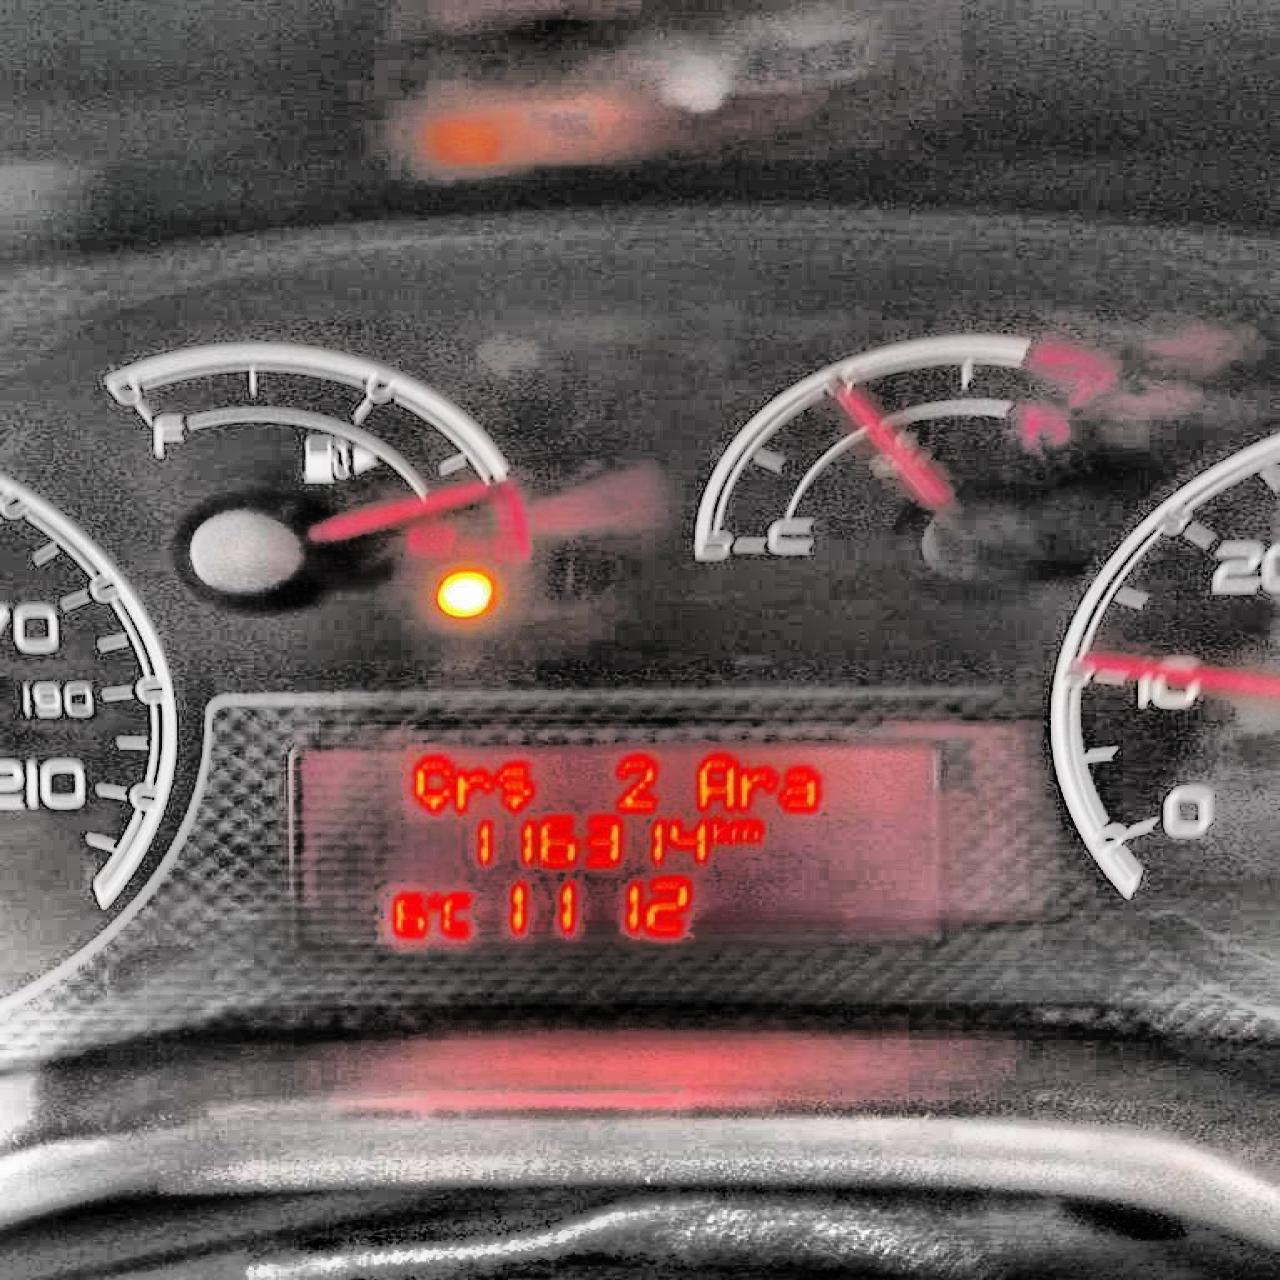1: (503, 877, 533, 938), (554, 877, 580, 939), (472, 813, 496, 869), (624, 876, 640, 937), (518, 815, 535, 870), (651, 817, 665, 864)
2: (644, 873, 696, 938), (614, 751, 659, 813)
3: (583, 812, 620, 866)
4: (670, 816, 704, 865)
6: (537, 811, 577, 869), (392, 890, 425, 938)
X: (694, 750, 738, 811), (415, 751, 455, 815), (495, 758, 537, 812), (778, 765, 818, 812), (456, 765, 491, 813), (441, 890, 475, 939), (742, 763, 777, 809), (731, 817, 765, 845), (709, 812, 730, 846)
odometer: (287, 730, 965, 964)
